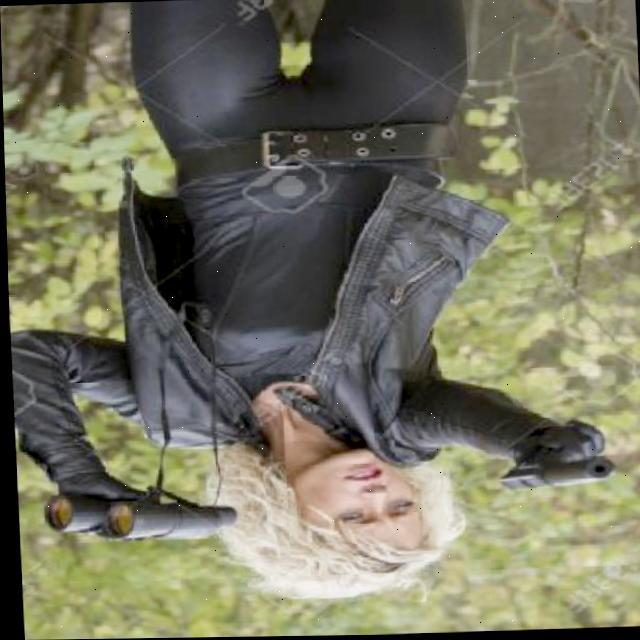gun: (495, 437, 611, 491)
